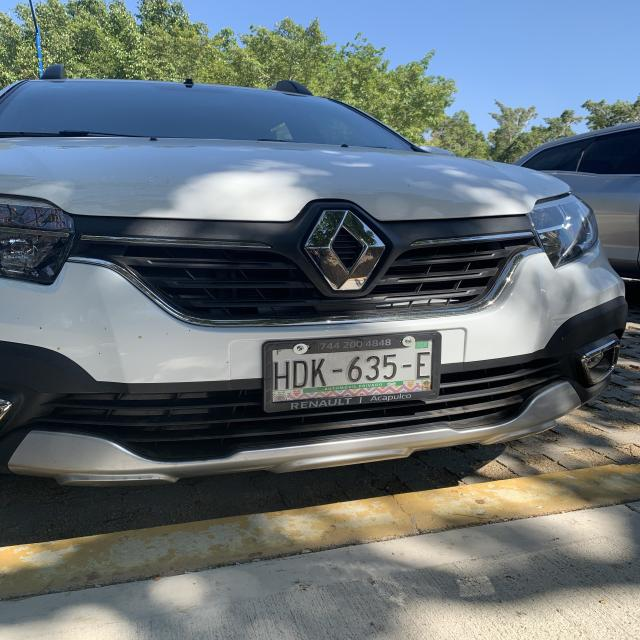placa: (266, 352, 444, 387)
